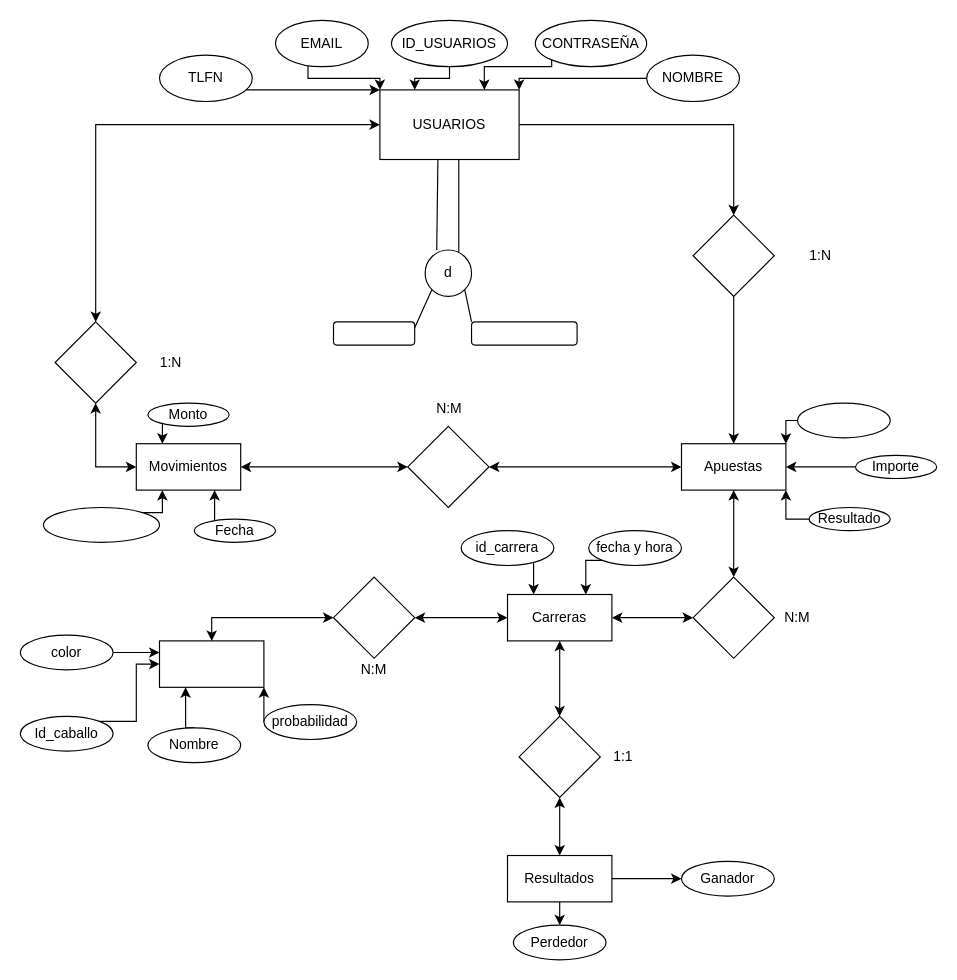
This 957x980 diagram has some shape labels left out. The centre of each missing label's shape, as x and y in pixels:
"Administrador" goes at (x=523, y=333).
"Caballos" goes at (x=211, y=663).
"Clientes" goes at (x=373, y=333).
"Genera" goes at (x=448, y=466).
"Id_apuesta" goes at (x=843, y=420).
"Id_Movimientos" goes at (x=101, y=524).
"obtienes" goes at (x=559, y=756).
"Participan" goes at (x=373, y=617).
"Realiza" goes at (x=733, y=255).
"Resgistra" goes at (x=95, y=362).
"sobre" goes at (x=733, y=617).
